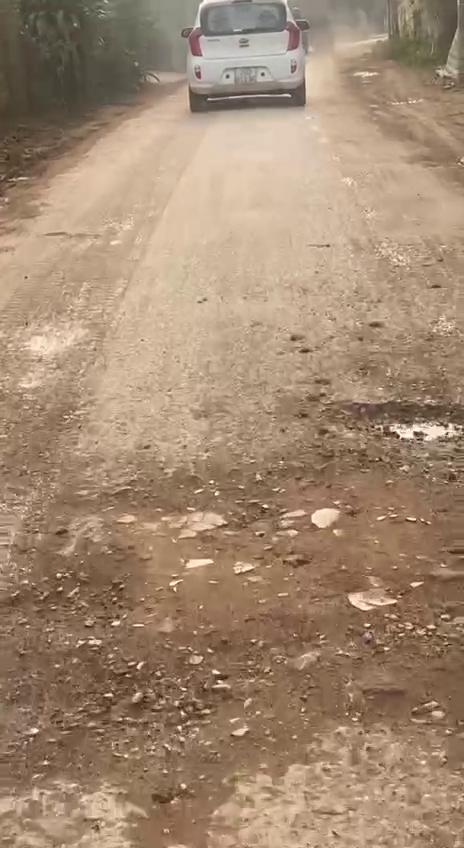pothole: (0, 574, 298, 848), (317, 393, 464, 471)
